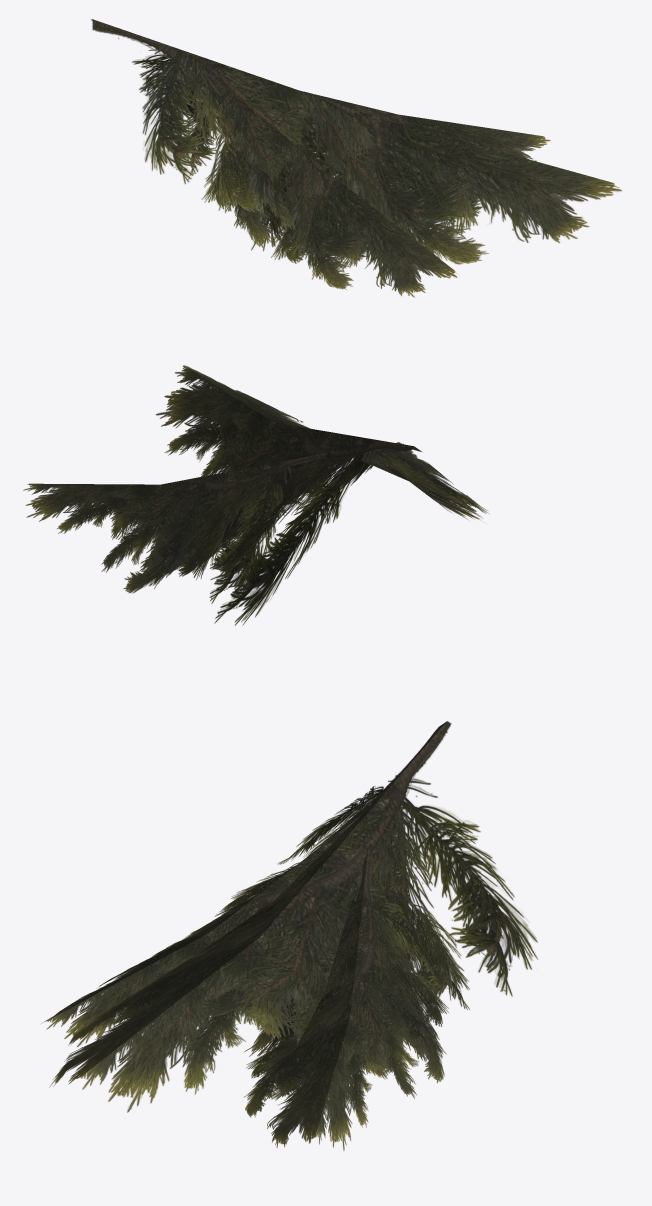
File: branch.glb
The picture shows the model from 3 angles, top to bottom: view 1: azimuth 30°, elevation 25°; view 2: azimuth 150°, elevation 25°; view 3: azimuth 270°, elevation 25°; orthographic projection. The views are drawn at different scales.
Visible parts, largest first — view 1: Plane.040_Branches_0; view 2: Plane.040_Branches_0; view 3: Plane.040_Branches_0.
Part boxes in pixels (x1,y1,x2,y2): Plane.040_Branches_0: (91,19,621,297); Plane.040_Branches_0: (23,365,488,625); Plane.040_Branches_0: (41,721,537,1150).
Bounding box in the file's own units: 4.31 × 1.74 × 3.74.
Materials: 1 (1 with a texture image).
